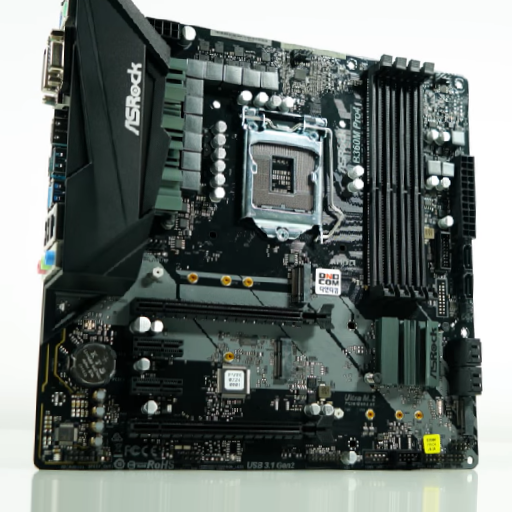CPU: (242, 107, 327, 241)
GPU: (129, 298, 335, 329), (126, 414, 334, 444)
MOTHERBOARD: (40, 13, 478, 472)
RAM: (368, 55, 437, 302)
SSD: (273, 336, 294, 381), (289, 263, 312, 304)
